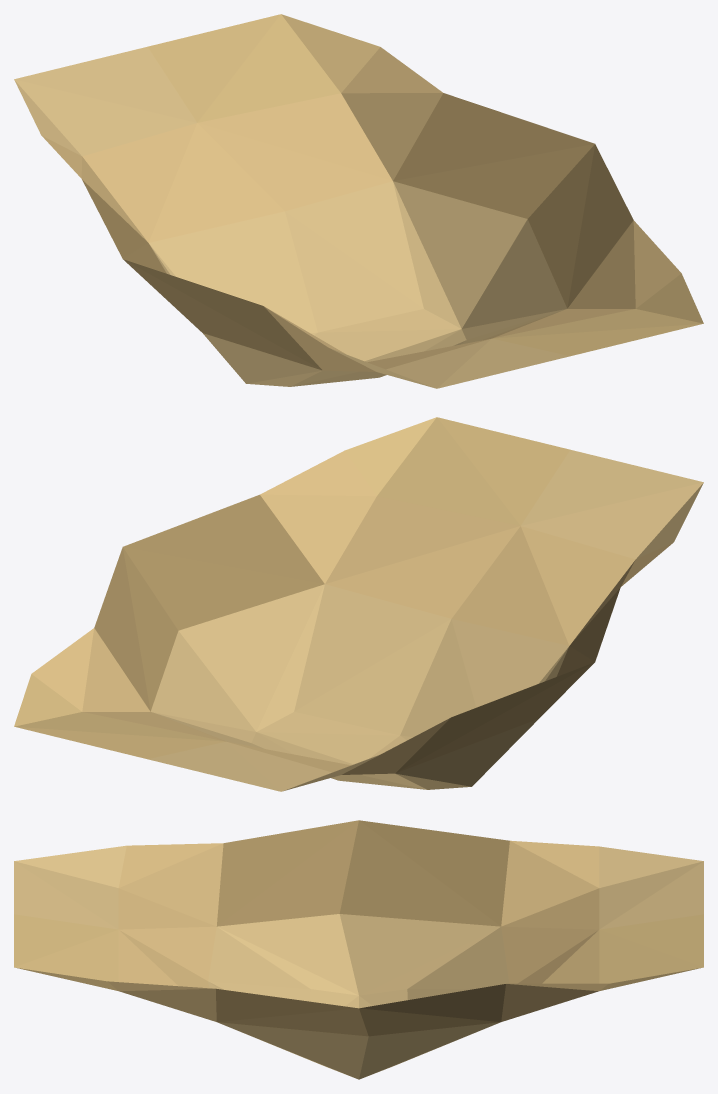
The model's file is drmpb.obj.
3 renders of one model, top to bottom at view 1: azimuth 30°, elevation 25°; view 2: azimuth 150°, elevation 25°; view 3: azimuth 270°, elevation 25°, orthographic. The views are drawn at different scales.
Size of the model in its own units: 2300 by 752 by 3566.
